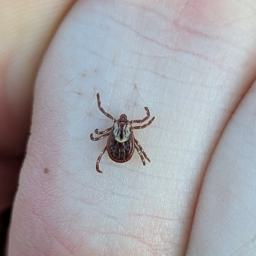Dermacentor variabilis: (89, 93, 155, 172)
